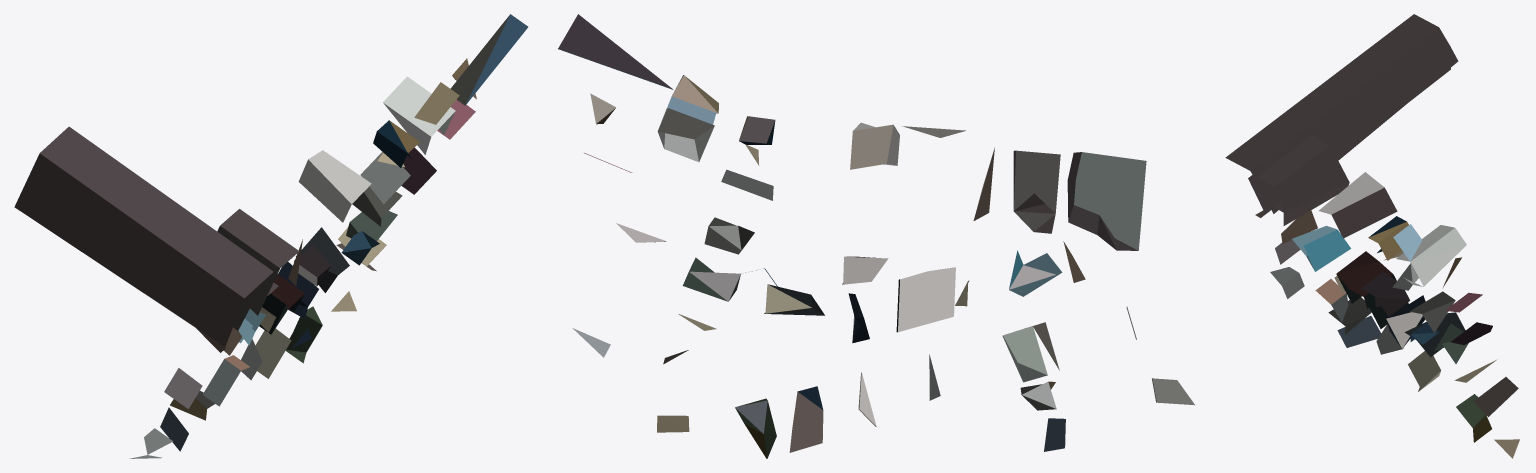
3 views of the same model, side by side, from view 1: azimuth 30°, elevation 25°; view 2: azimuth 150°, elevation 25°; view 3: azimuth 270°, elevation 25° (orthographic). The views are drawn at different scales.
Size of the model in its own units: 256 by 155 by 136.
